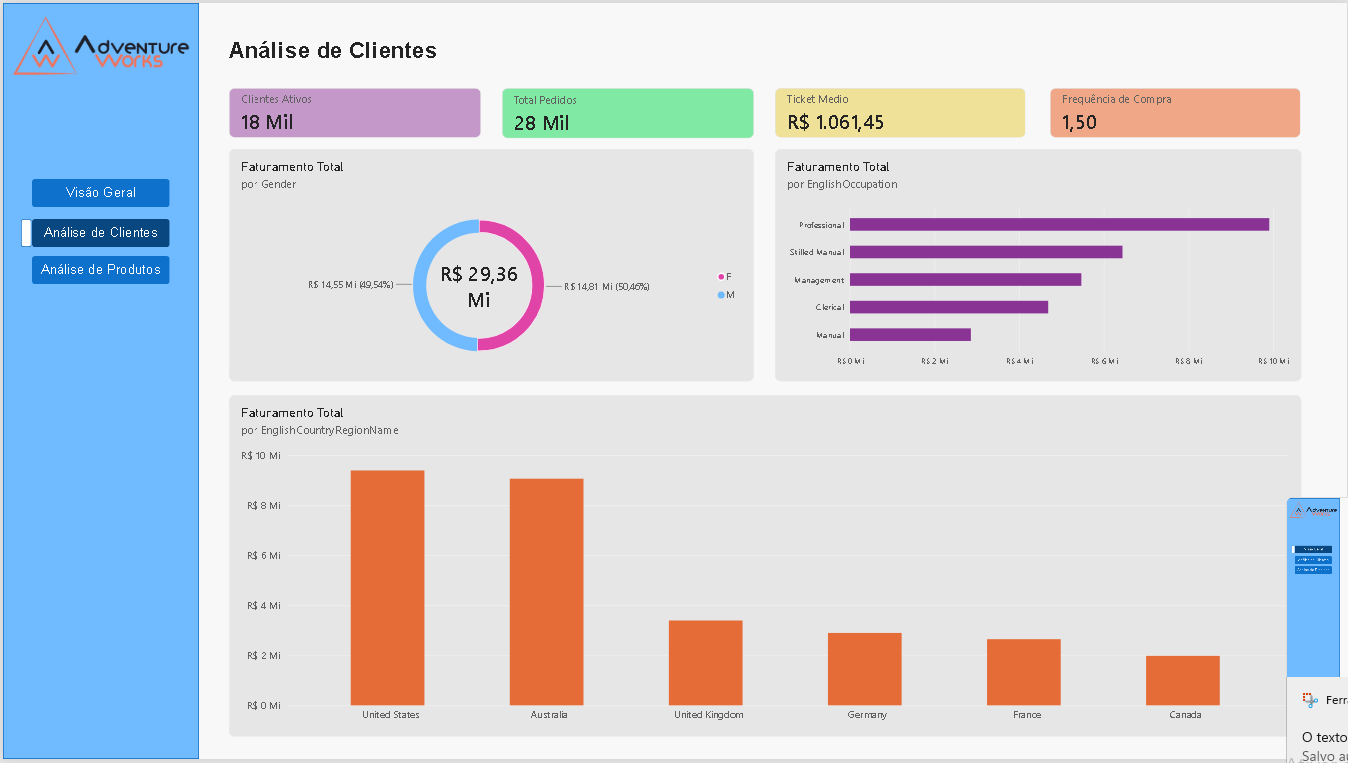

The page's visual inventory and layout, read from the dashboard file:
{"tool":"powerbi","page":{"name":"Análise de Clientes","canvas":[1920,1080],"ordinal":1},"visuals":[{"type":"shape","box":[0,0,280,1080],"z":0},{"type":"image","box":[0,0,280,122],"z":1000},{"type":"textbox","box":[323.3,48.3,360,40],"z":2000},{"type":"donutChart","title":"Faturamento por Gênero","fields":{"Category":["DimCustomer.Gender"],"Y":["FactInternetSales.Faturamento Total"]},"box":[323.3,208.3,750,331.7],"z":3000},{"type":"cardVisual","fields":{"Data":["FactInternetSales.Clientes Ativos"]},"box":[323.3,121.7,360,71.7],"z":4000},{"type":"cardVisual","fields":{"Data":["FactInternetSales.Total Pedidos"]},"box":[712.5,121.2,360,72],"z":5000},{"type":"cardVisual","fields":{"Data":["FactInternetSales.Ticket Medio"]},"box":[1103.3,121.7,358.3,71.7],"z":6000},{"type":"clusteredColumnChart","title":"Faturamento por País","fields":{"Category":["DimGeography.EnglishCountryRegionName"],"Y":["FactInternetSales.Faturamento Total"]},"box":[323.3,560,1531.7,488.3],"z":7000},{"type":"barChart","title":"Faturamento por Profissão","fields":{"Category":["DimCustomer.EnglishOccupation"],"Y":["FactInternetSales.Faturamento Total"]},"box":[1103.3,208.3,751.7,331.7],"z":8000},{"type":"actionButton","box":[41.7,250.8,196.7,40],"z":9000},{"type":"actionButton","box":[41.7,308.3,196.7,40],"z":10000},{"type":"shape","box":[25,308.5,12,40],"z":11000},{"type":"cardVisual","fields":{"Data":["FactInternetSales.Frequência de Compra"]},"box":[1495.7,121.4,358.6,71.4],"z":12000},{"type":"actionButton","box":[41.7,361.2,196.7,40],"z":12001}]}

Visuals, with their boxes on the page's 1920x1080 design canvas (x1, y1, x2, y2). These are canvas units, not pixel positions in the 1348x763 screenshot, which may show the page scaled, cropped or inside an application window:
shape: (0,0,280,1080)
image: (0,0,280,122)
textbox: (323,48,683,88)
"Faturamento por Gênero" donutChart: (323,208,1073,540)
cardVisual - FactInternetSales.Clientes Ativos: (323,122,683,193)
cardVisual - FactInternetSales.Total Pedidos: (712,121,1072,193)
cardVisual - FactInternetSales.Ticket Medio: (1103,122,1462,193)
"Faturamento por País" clusteredColumnChart: (323,560,1855,1048)
"Faturamento por Profissão" barChart: (1103,208,1855,540)
actionButton: (42,251,238,291)
actionButton: (42,308,238,348)
shape: (25,308,37,348)
cardVisual - FactInternetSales.Frequência de Compra: (1496,121,1854,193)
actionButton: (42,361,238,401)
